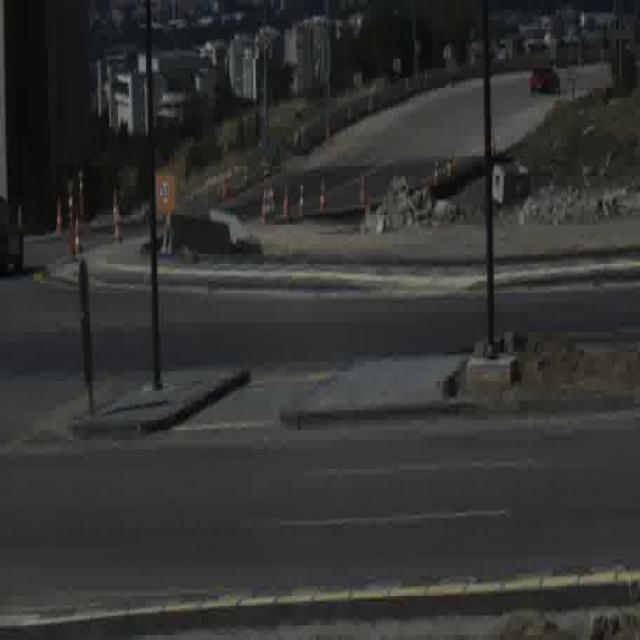Car: (530, 62, 564, 94)
